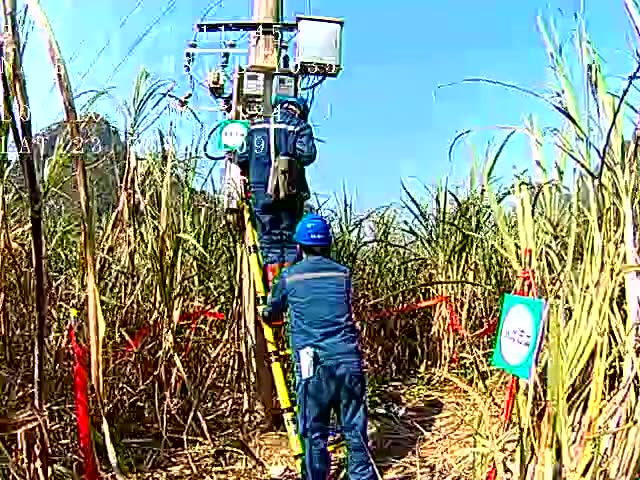halt: (295, 217, 336, 260), (276, 100, 312, 120)
